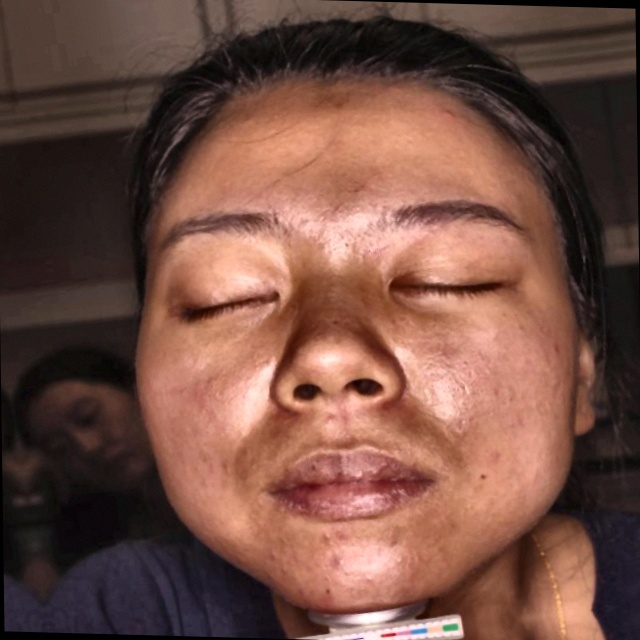comedone: (435, 100, 461, 128), (328, 552, 353, 574)
